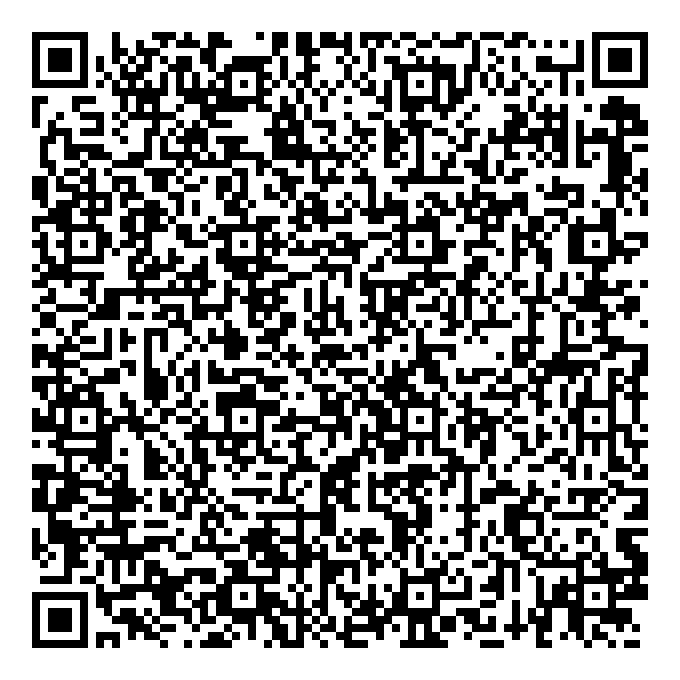QR_CODE: (23, 19, 660, 661)
